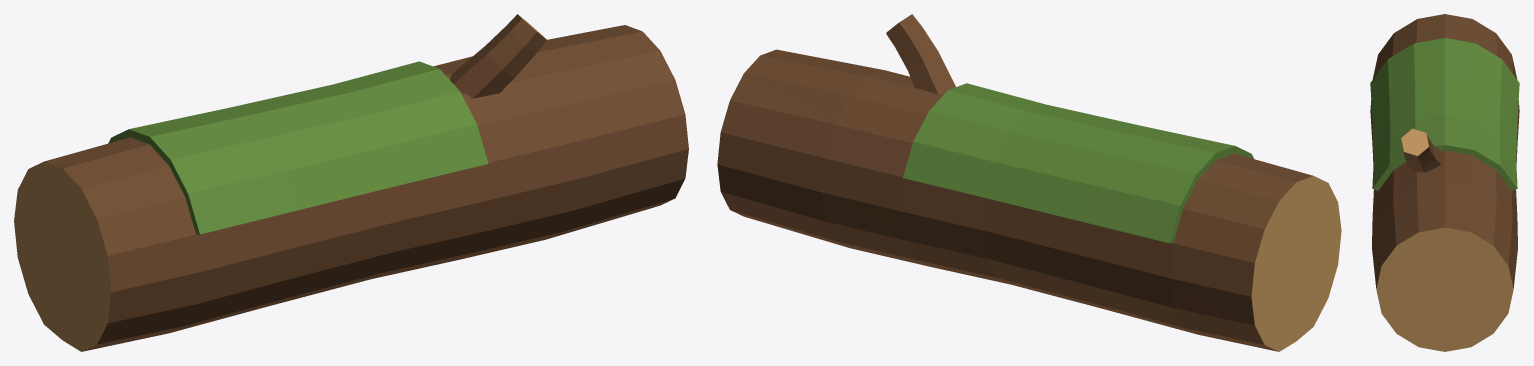
Rendered from fallenLog.glb.
3 renders of one model, left to right at view 1: azimuth 30°, elevation 25°; view 2: azimuth 150°, elevation 25°; view 3: azimuth 270°, elevation 25°, orthographic. The views are drawn at different scales.
Visible parts, largest first — view 1: Log body, Log moss, Log stub; view 2: Log body, Log moss, Log stub; view 3: Log body, Log moss, Log stub.
Boxes of the visible parts, x1=… form: Log body: x1=14, y1=25, x2=688, y2=351; Log moss: x1=108, y1=61, x2=488, y2=234; Log stub: x1=450, y1=14, x2=546, y2=98; Log body: x1=717, y1=49, x2=1341, y2=351; Log moss: x1=903, y1=83, x2=1253, y2=243; Log stub: x1=886, y1=14, x2=955, y2=94; Log body: x1=1370, y1=14, x2=1519, y2=351; Log moss: x1=1370, y1=38, x2=1519, y2=190; Log stub: x1=1401, y1=128, x2=1443, y2=172.
Bounding box in the file's own units: 2 × 0.7618 × 0.6006.
